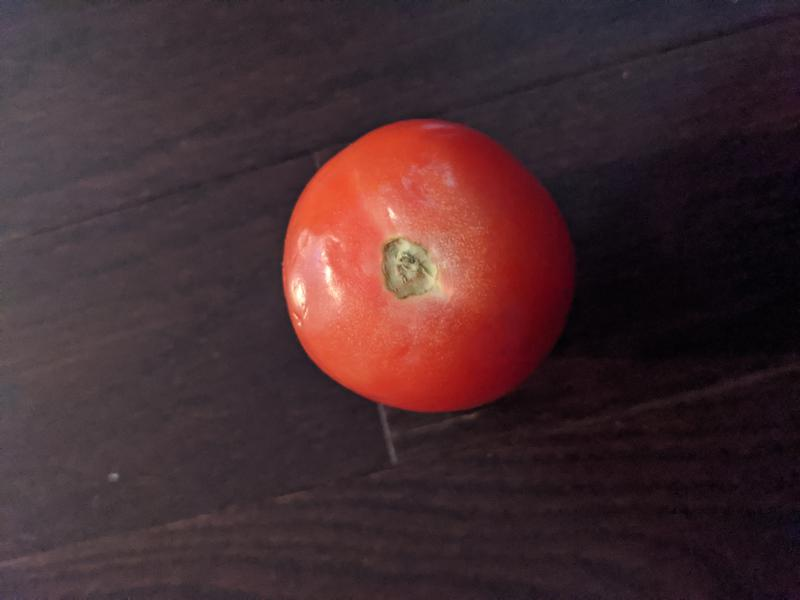tomato: (281, 118, 577, 414)
